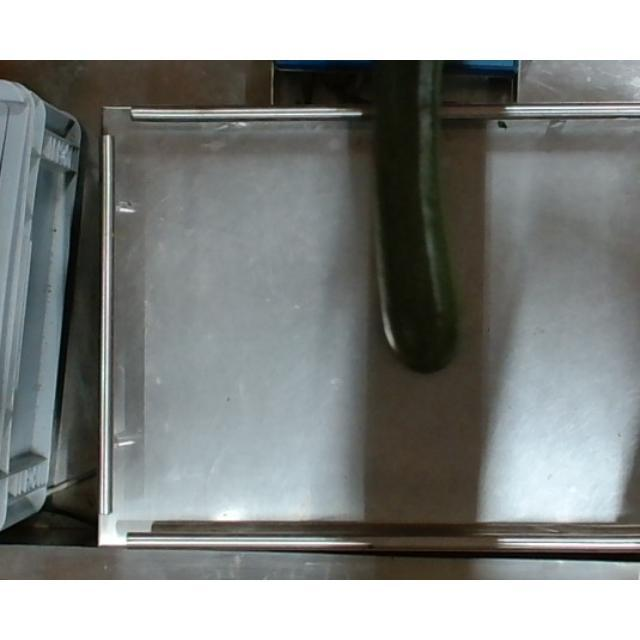cucumber: (360, 60, 466, 374)
